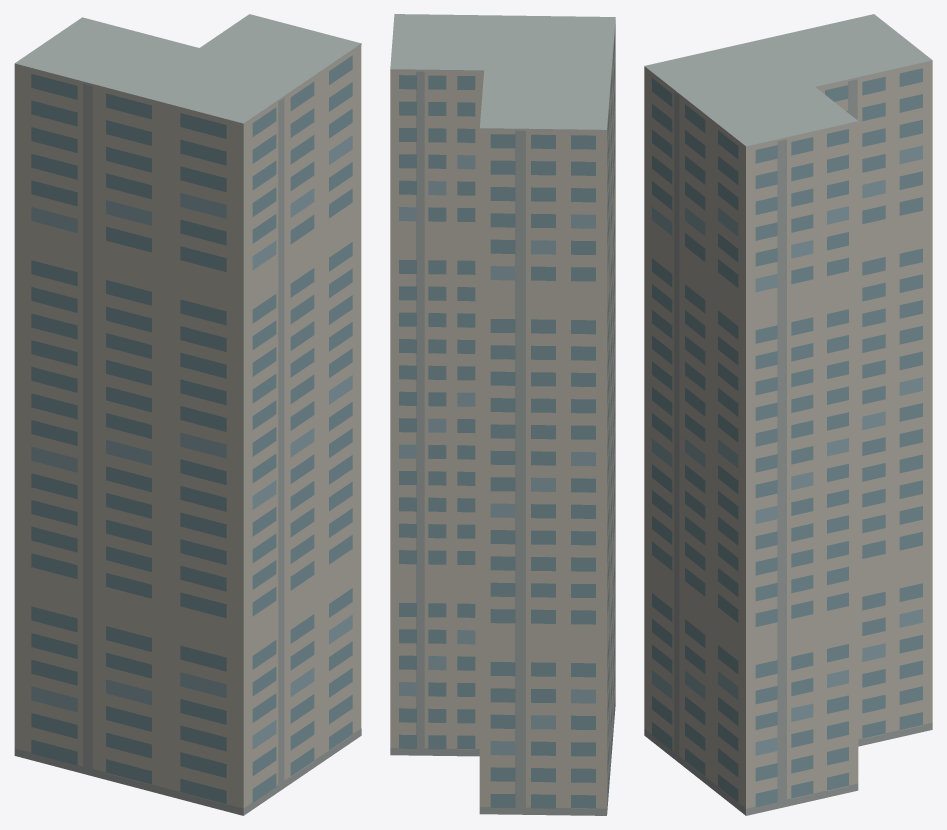
Rendered from residential-205630b7-1bfa-4f21-9baa-92128e491658.glb.
3 renders of one model, left to right at view 1: azimuth 30°, elevation 25°; view 2: azimuth 150°, elevation 25°; view 3: azimuth 270°, elevation 25°, orthographic. The views are drawn at different scales.
Parts seen in each view (by area): view 1: residential-205630b7-1bfa-4f21-9baa-92128e491658.tmp; view 2: residential-205630b7-1bfa-4f21-9baa-92128e491658.tmp; view 3: residential-205630b7-1bfa-4f21-9baa-92128e491658.tmp.
Boxes of the visible parts, x1=… form: residential-205630b7-1bfa-4f21-9baa-92128e491658.tmp: x1=14, y1=14, x2=361, y2=815; residential-205630b7-1bfa-4f21-9baa-92128e491658.tmp: x1=390, y1=14, x2=615, y2=815; residential-205630b7-1bfa-4f21-9baa-92128e491658.tmp: x1=644, y1=14, x2=932, y2=815.
Size of the model in its own units: 34.38 by 81 by 31.65.
